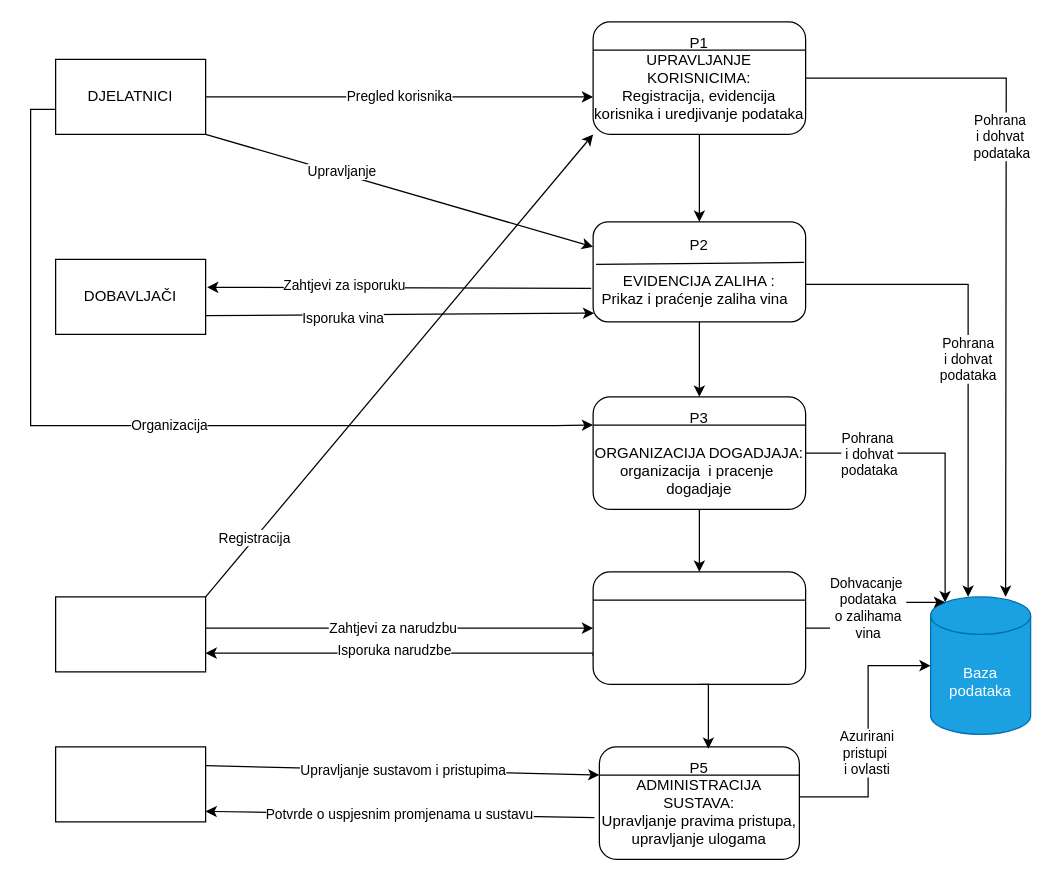
The diagram is 1053 pixels wide and 881 high, and some of its shapes have lost their labels. The shapes that lost their labels are listed below. From the top down, each one's centre as x and y in pixels, then its label:
the point at 130,634: KUPCI
the point at 699,627: P4 OBRADA ZAHTJEVA KUPACA: Zaprimanje i obrada zahtjeva za kupnju vina
the point at 130,784: ADMINISTRATORI
